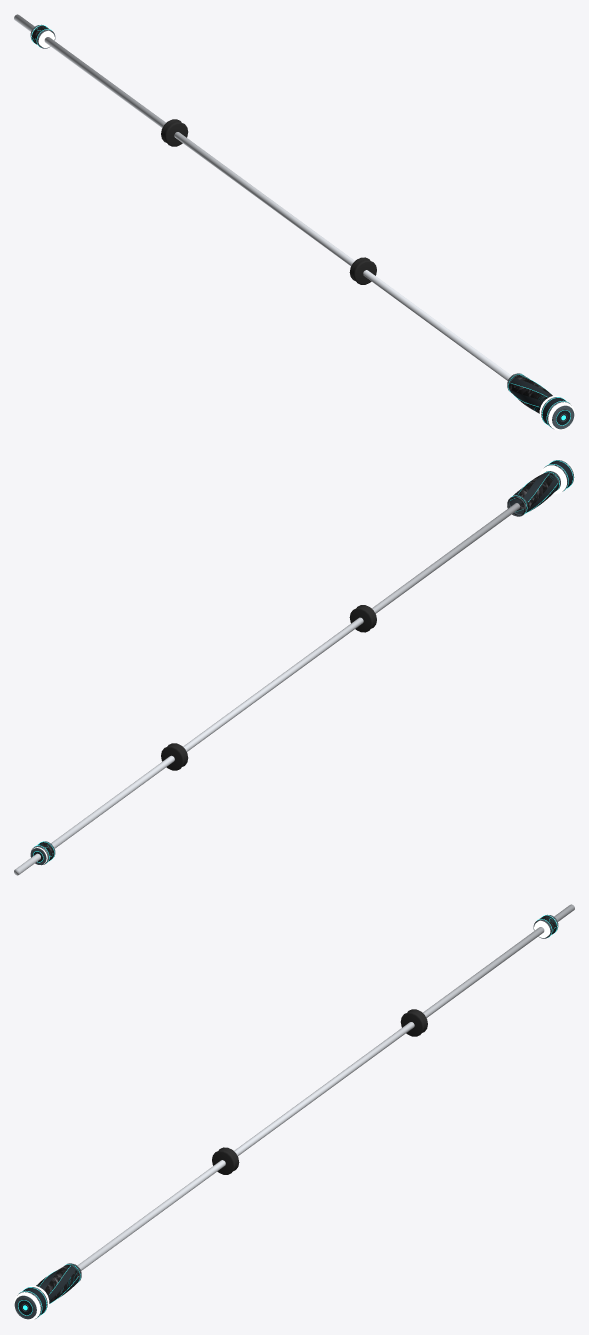
The model's file is fuzeball_rod_1man.glb.
3 views of the same model, one above another, from view 1: azimuth 30°, elevation 25°; view 2: azimuth 150°, elevation 25°; view 3: azimuth 330°, elevation 25° (orthographic).
Visible parts, largest first — view 1: rod1_bar.002, rod1_handle_obsidian_grip, obsidian_hardware_1; view 2: rod1_bar.002, rod1_handle_obsidian_grip, obsidian_hardware_1; view 3: rod1_bar.002, rod1_handle_obsidian_grip, obsidian_hardware_1.
Part boxes in pixels (bbox=[...]): rod1_bar.002: bbox=[14, 14, 511, 380]; rod1_handle_obsidian_grip: bbox=[507, 374, 552, 413]; obsidian_hardware_1: bbox=[30, 24, 574, 429]; rod1_bar.002: bbox=[14, 503, 520, 875]; rod1_handle_obsidian_grip: bbox=[507, 471, 560, 516]; obsidian_hardware_1: bbox=[30, 460, 574, 865]; rod1_bar.002: bbox=[77, 904, 574, 1270]; rod1_handle_obsidian_grip: bbox=[36, 1264, 81, 1303]; obsidian_hardware_1: bbox=[14, 914, 558, 1319].
Bounding box in the file's own units: 3.51 × 3.51 × 125.
Materials: 8 (1 with a texture image).
